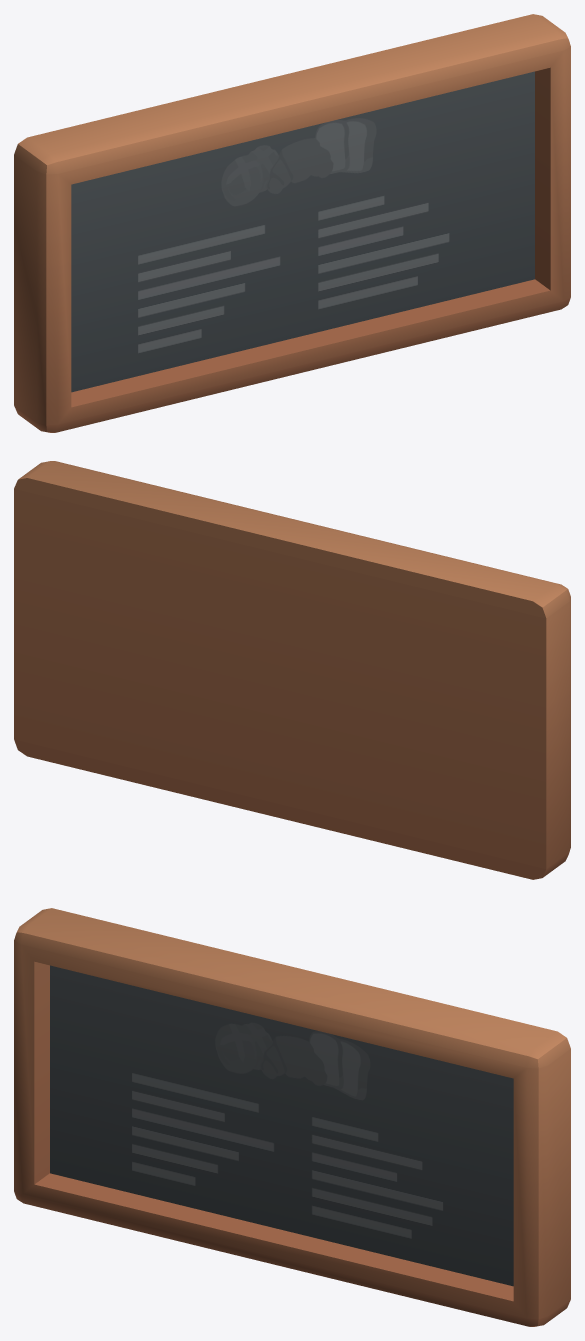
The model's file is wall-sign-large.glb.
The picture shows the model from 3 angles, top to bottom: view 1: azimuth 30°, elevation 25°; view 2: azimuth 150°, elevation 25°; view 3: azimuth 330°, elevation 25°; orthographic projection.
Parts seen in each view (by area): view 1: wall_sign_large; view 2: wall_sign_large; view 3: wall_sign_large.
Boxes of the visible parts, box(x1,y1,x2,y2) form: wall_sign_large: box(14, 14, 570, 432); wall_sign_large: box(14, 461, 570, 879); wall_sign_large: box(14, 908, 570, 1326).
Bounding box in the file's own units: 2 × 1 × 0.2.
Materials: 2 (2 with a texture image).
